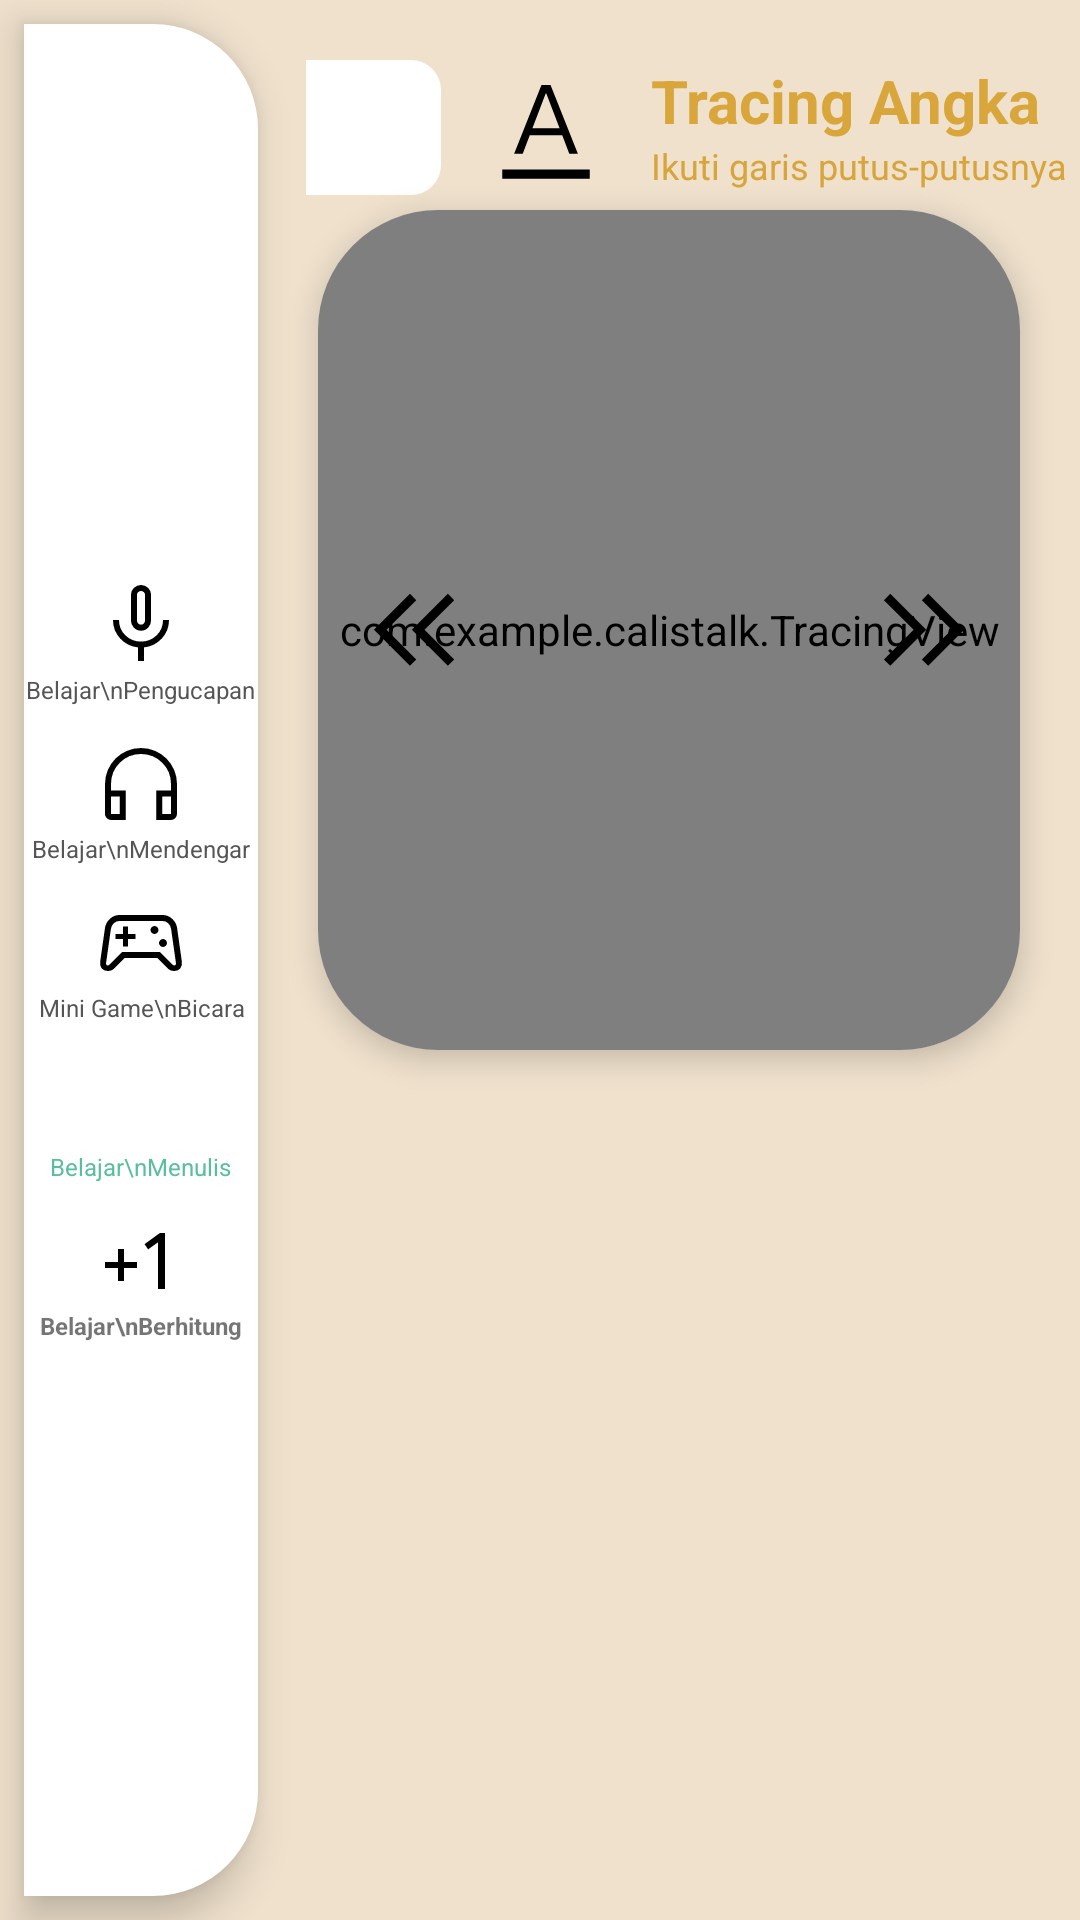

Locate icon controls on the screen. Image size 1080*1920, boxes as (x1, y1, x2, y2).
headset: (105, 748, 177, 820)
mic: (113, 585, 169, 661)
text: (502, 85, 590, 179)
